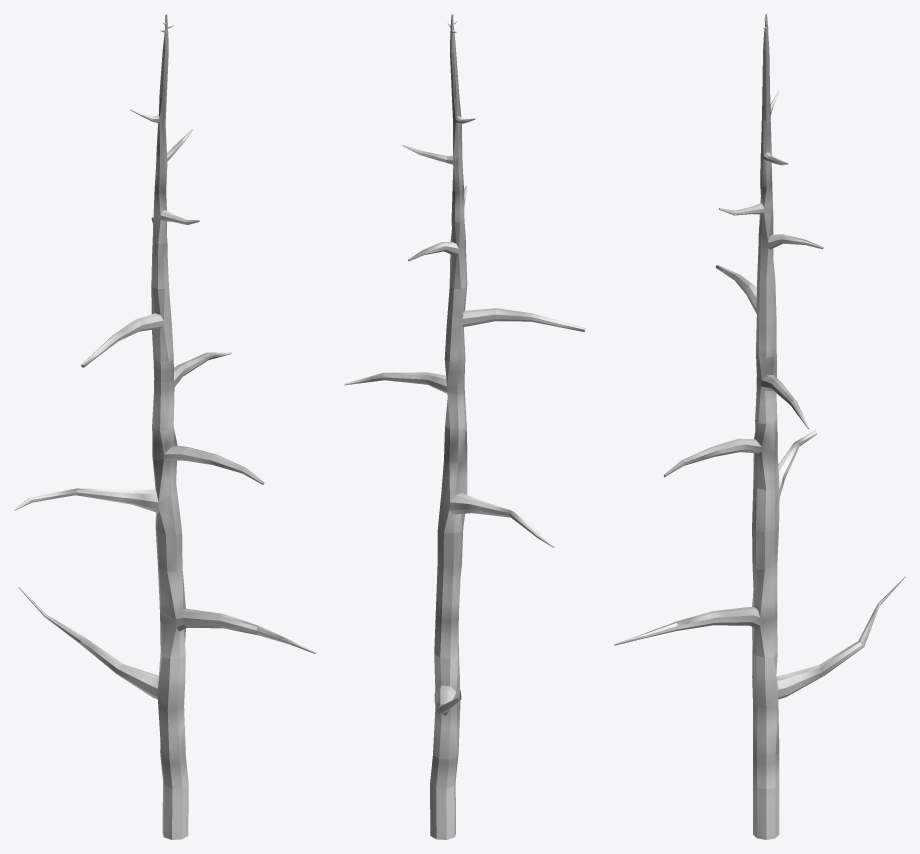
File: Arbol1NoHojas.fbx
3 renders of one model, left to right at view 1: azimuth 30°, elevation 25°; view 2: azimuth 150°, elevation 25°; view 3: azimuth 270°, elevation 25°, orthographic.
Visible parts, largest first — view 1: Tallo; view 2: Tallo; view 3: Tallo.
Part boxes in pixels (<box>): Tallo: <box>14,14,315,839</box>; Tallo: <box>344,14,585,839</box>; Tallo: <box>614,14,905,839</box>.
Bounding box in the file's own units: 2.43 × 8.93 × 2.89.
1 material, 1 textured.
